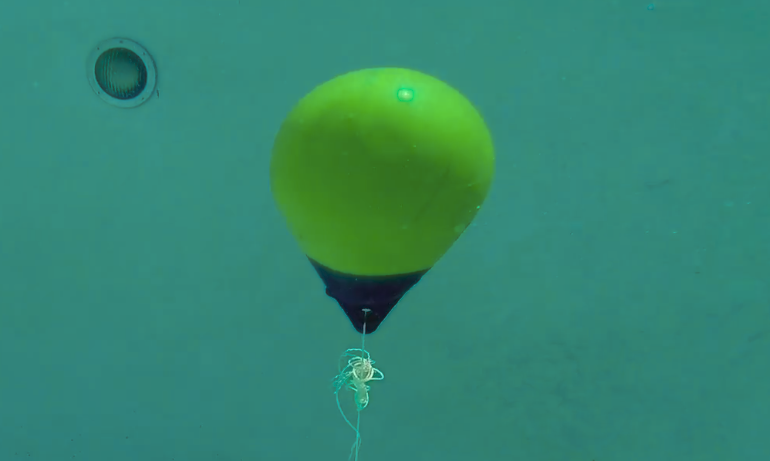yellow_buoy: (262, 61, 502, 339)
